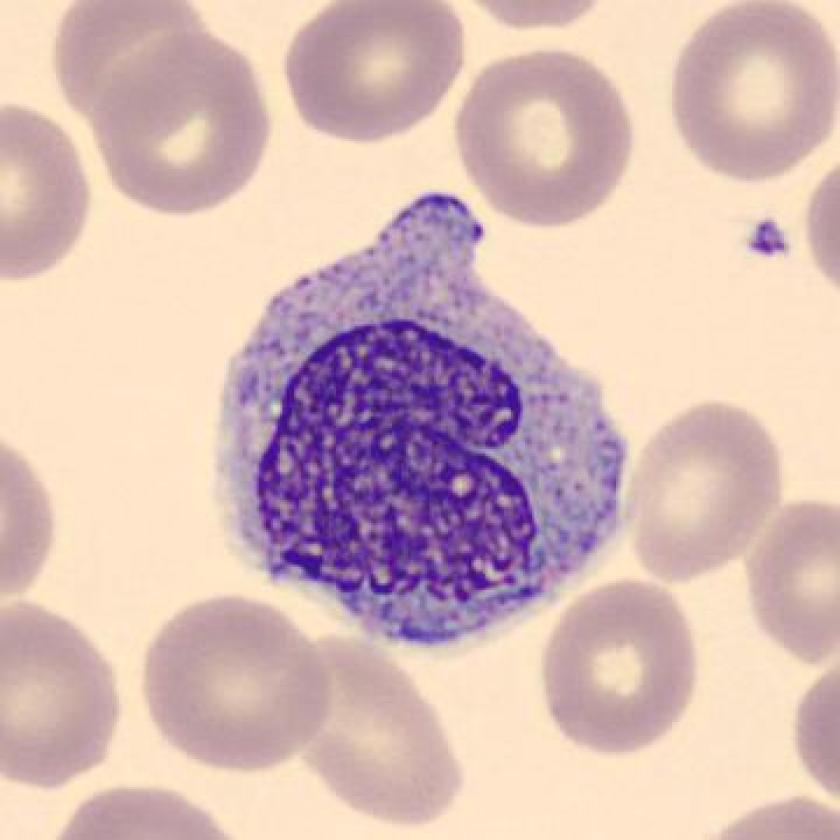monocyte: (195, 175, 645, 668)
